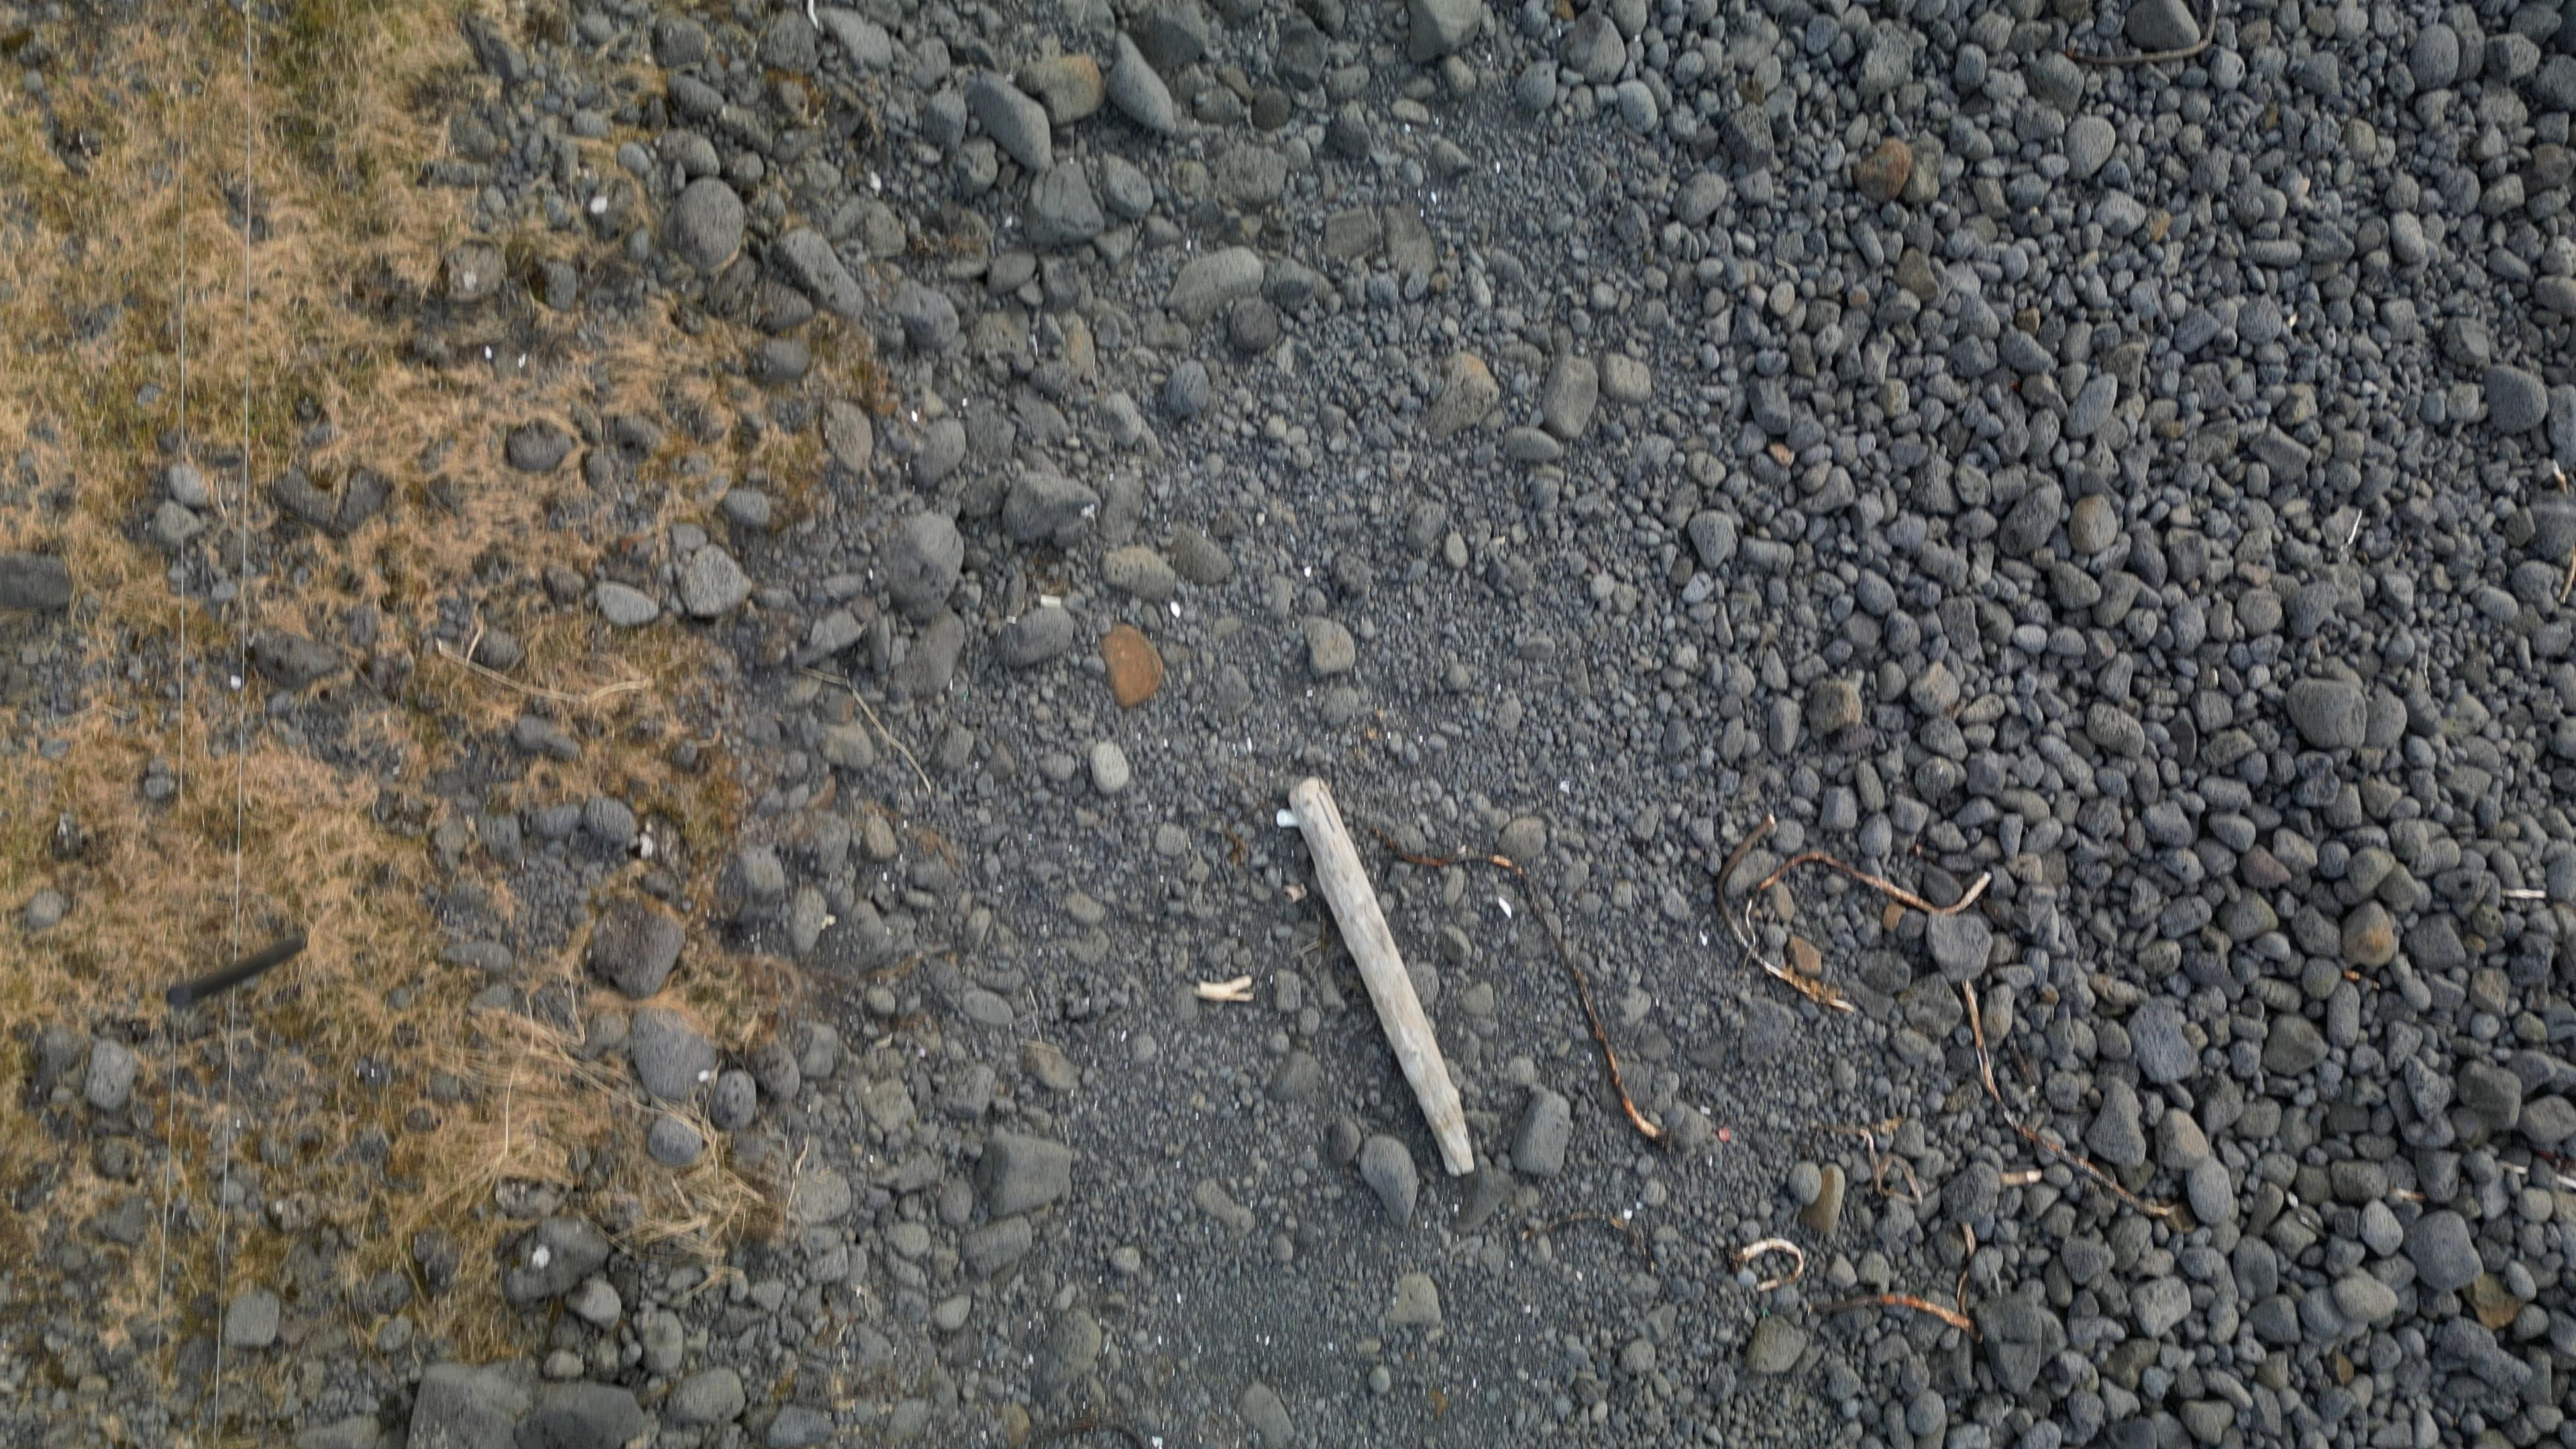trash: (1272, 810, 1299, 830)
